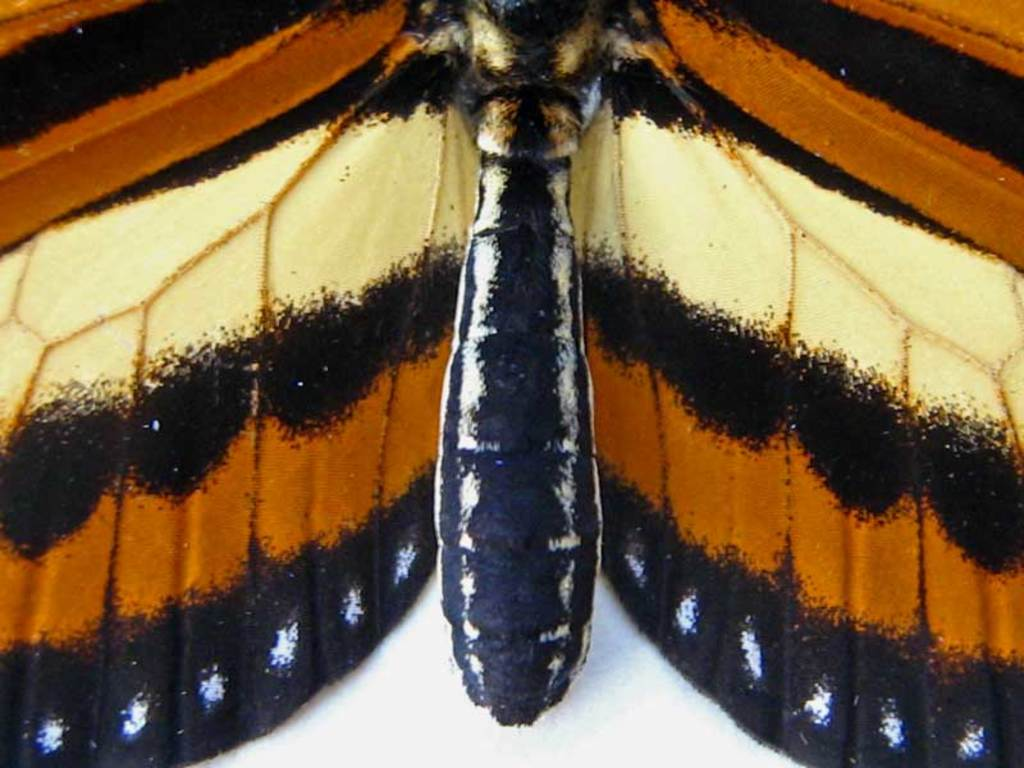Butterfly: (6, 1, 1024, 768)
